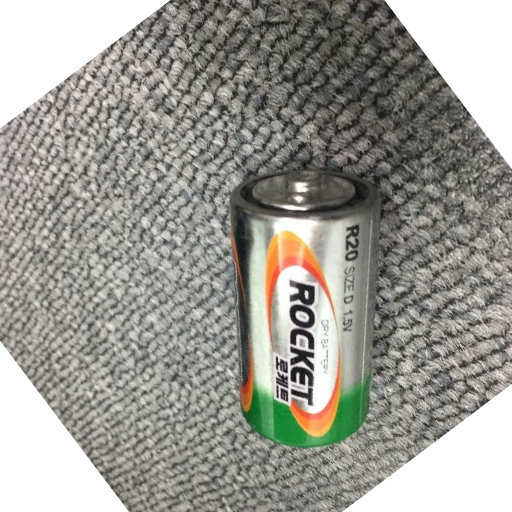Battery_0: (215, 156, 389, 455)
